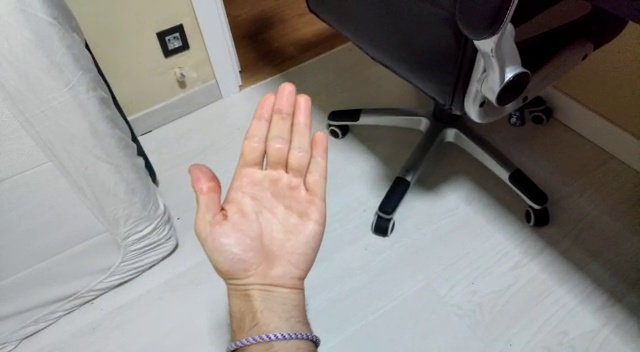Palm: (185, 81, 331, 291)
